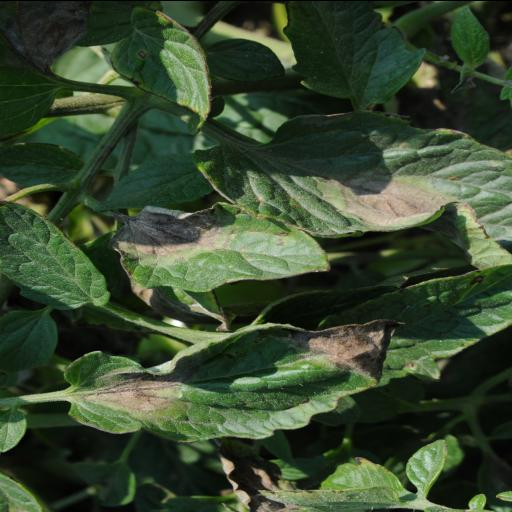Late Blight: (60, 315, 410, 447), (191, 104, 512, 236), (108, 202, 336, 296)
